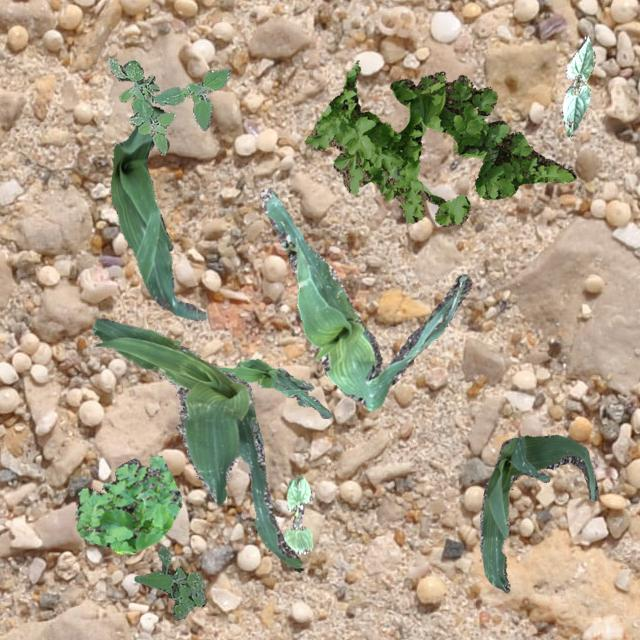crop: (90, 318, 302, 570), (258, 188, 471, 410), (110, 104, 206, 320), (478, 434, 598, 592), (214, 358, 330, 418), (560, 34, 594, 136), (282, 476, 312, 552)
weed: (304, 64, 574, 225), (108, 56, 230, 154), (74, 454, 180, 554), (134, 544, 206, 620)
